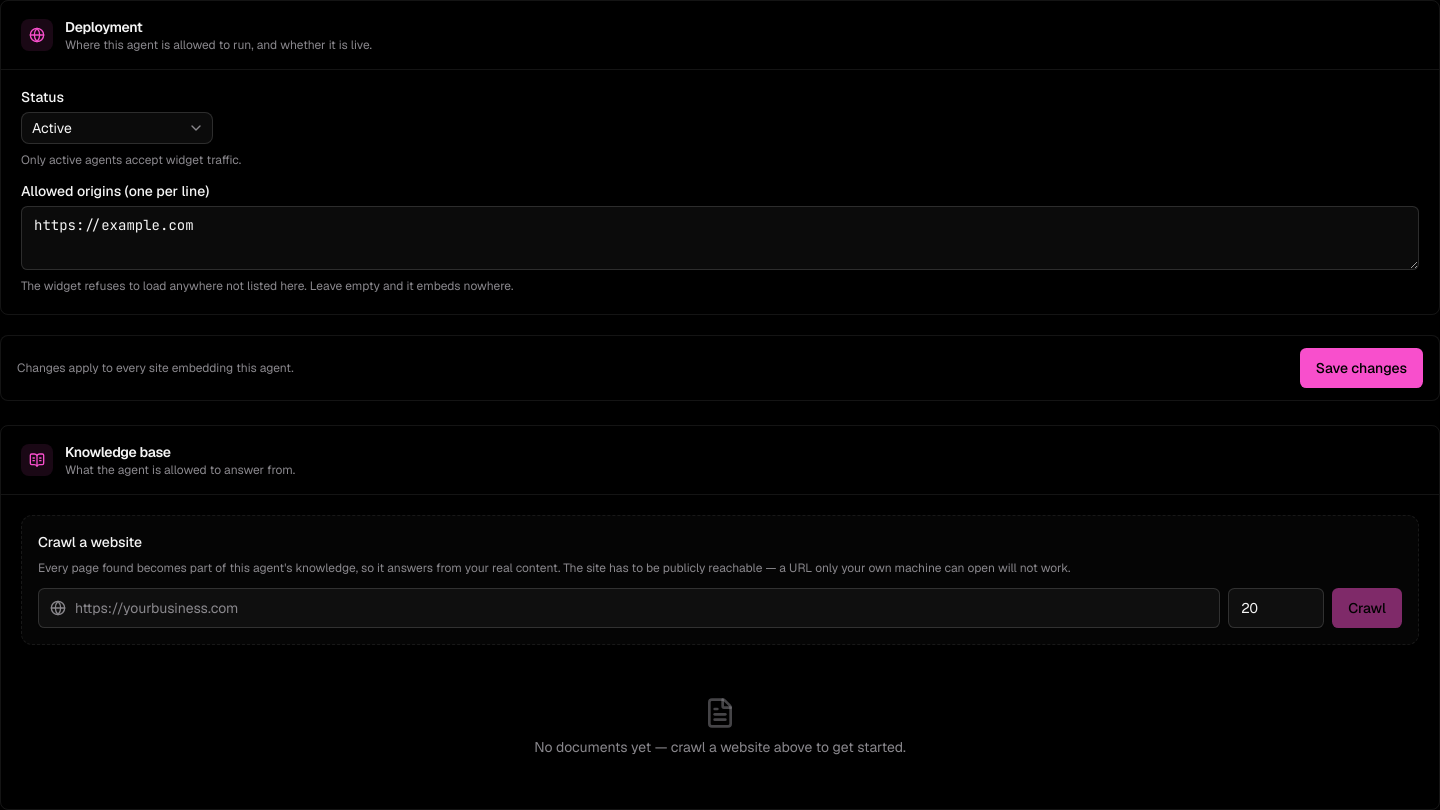
Scenario: EditAgentPage › knowledge base › crawls a website and refreshes the document list
(page scrolled)
Type "https://example.com" into the field with placeholder "https://yourbusiness.com" at (629, 608), box [38,588,1220,628]
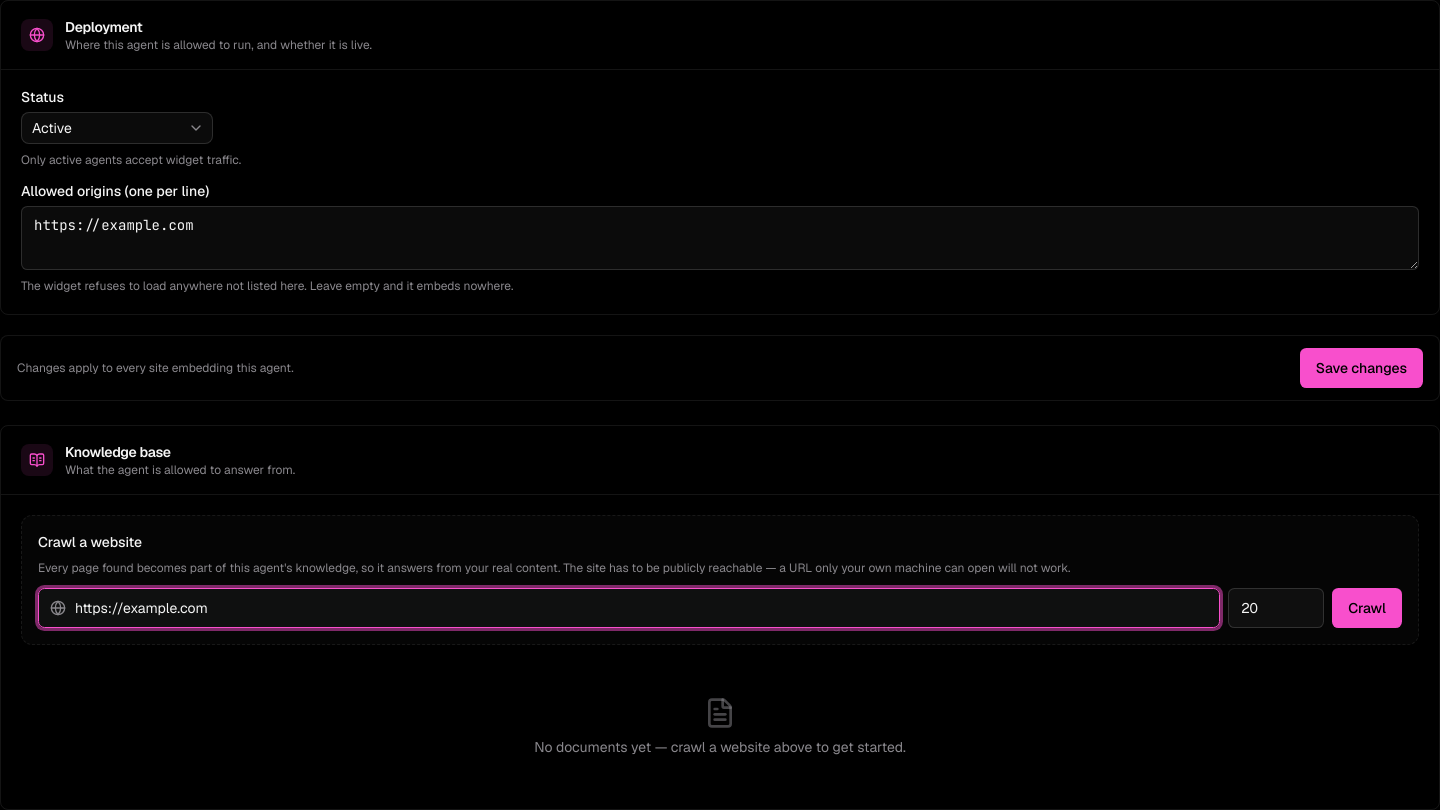
Click the button "Crawl" at (1367, 608), box [1332,588,1402,628]
(page scrolled)
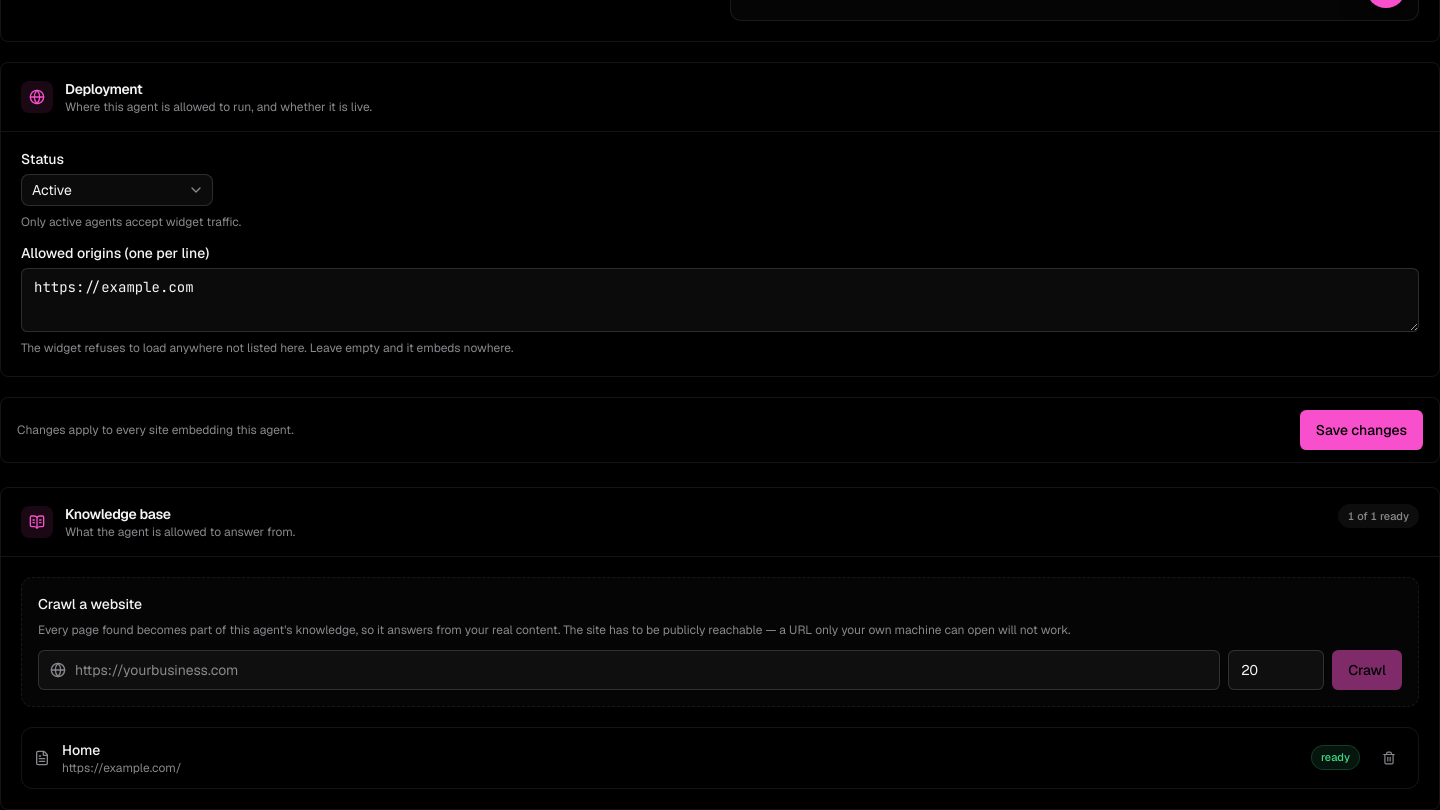
Check: the text "Home" is shown, box [62,740,100,758]
